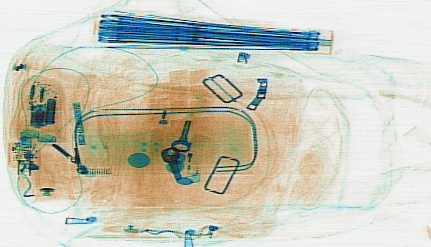lighter: (180, 125, 204, 186)
